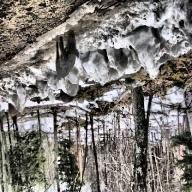boar: (46, 26, 79, 92)
